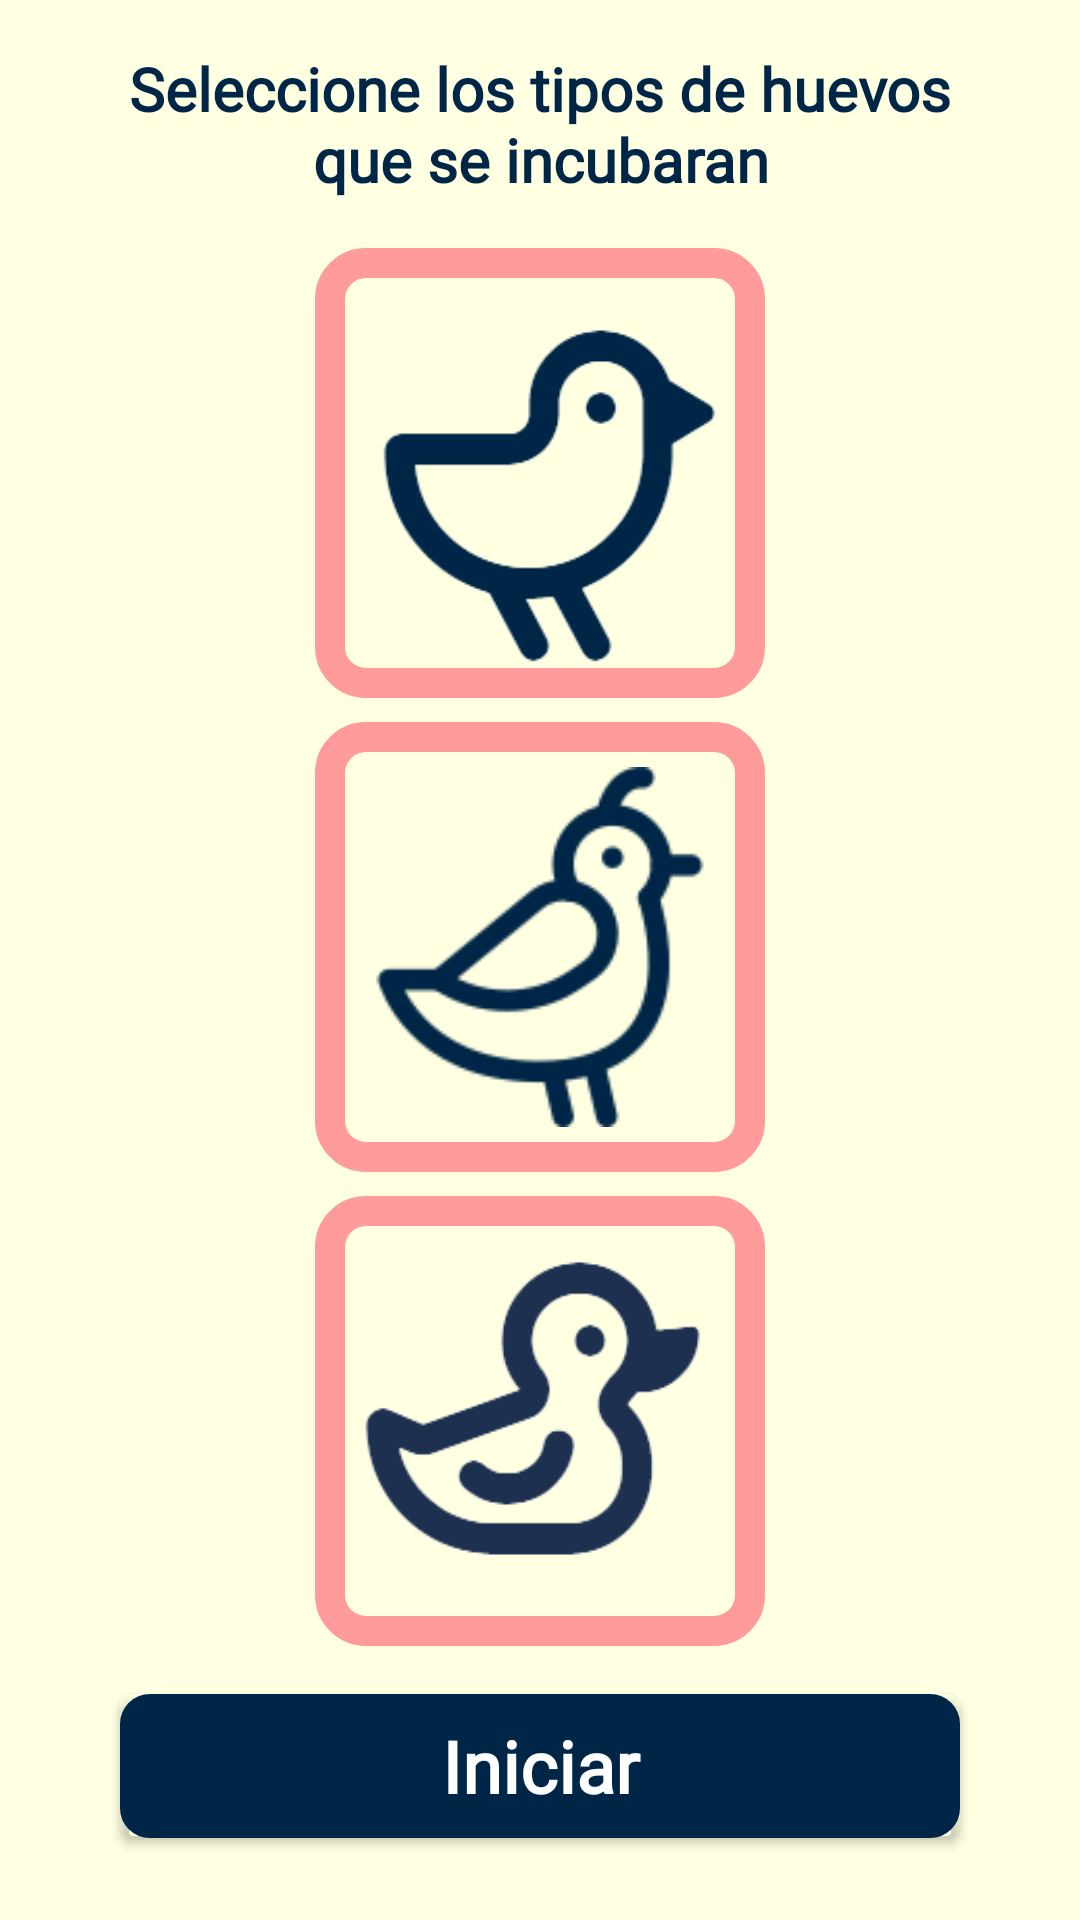

Screen size 1080x1920. Icon name, then its center in pixels as (x=x, y=y):
codorniz: (x=540, y=947)
